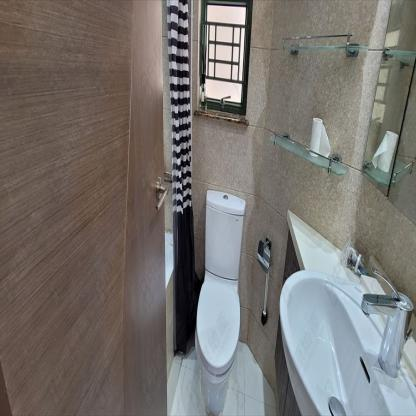Bathtub: (166, 231, 173, 388)
Faucet: (359, 274, 409, 376)
Toilet: (194, 184, 247, 415)
Toilet Sink: (281, 267, 416, 414)
